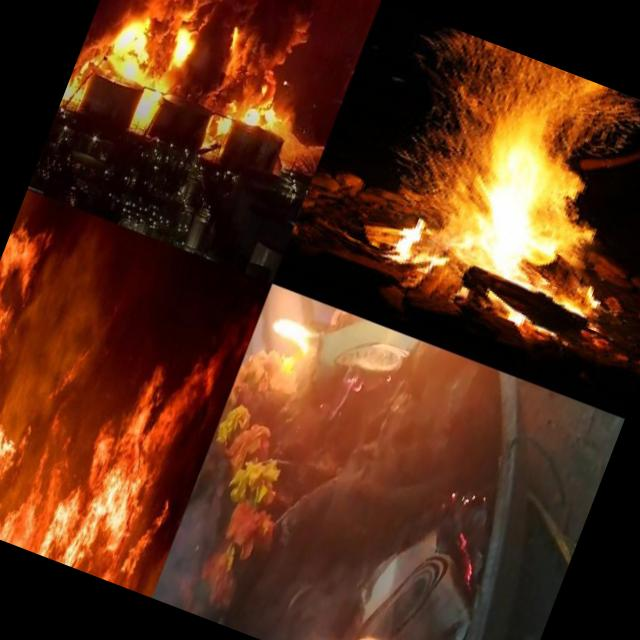fire: (339, 19, 640, 347), (0, 284, 232, 594), (0, 210, 56, 518), (98, 6, 160, 80), (161, 19, 202, 74), (240, 92, 284, 139), (62, 51, 100, 105), (205, 92, 241, 146), (132, 80, 167, 128)
smoke: (188, 0, 330, 104), (81, 0, 141, 57)
